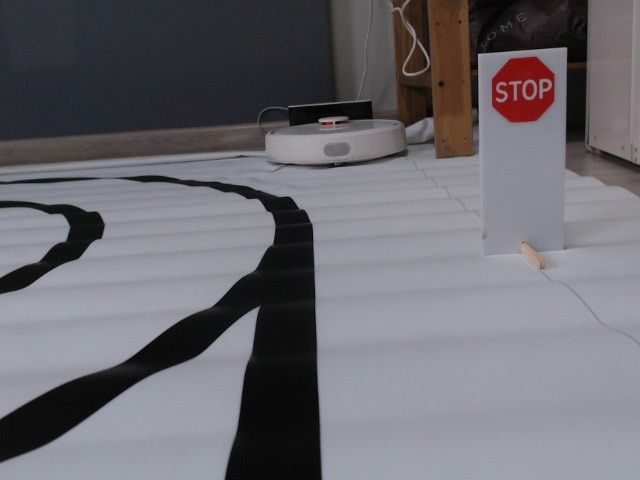Stop: (488, 54, 557, 126)
